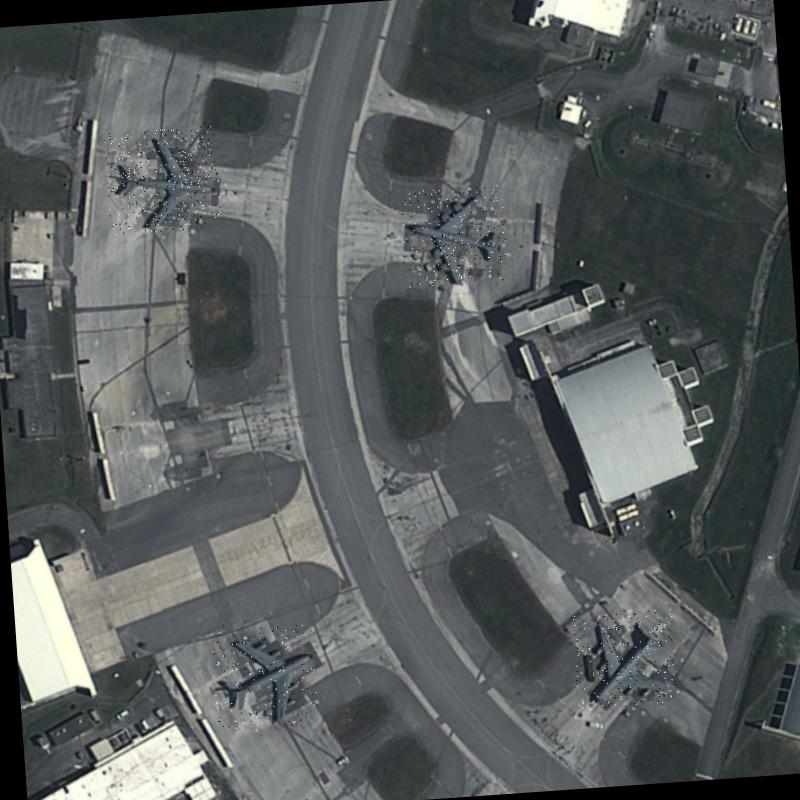A14: (104, 125, 222, 235), (210, 622, 318, 730), (400, 184, 508, 288), (571, 606, 678, 710)
